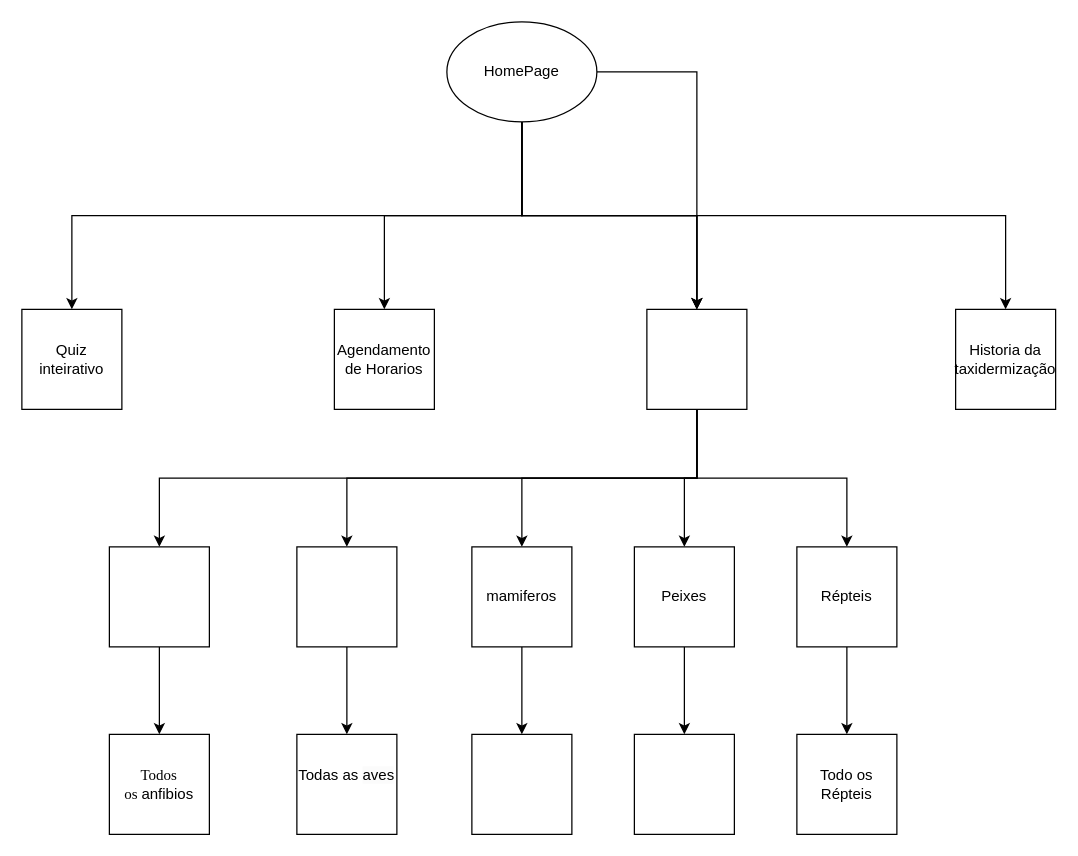
This 1078x856 diagram has some shape labels left out. Here are the shapes that lost their labels. From the top down, the box of each, then its label:
(646, 308, 747, 409): Animais taxidermizados
(108, 546, 209, 647): anfibios
(296, 546, 397, 647): aves
(471, 733, 572, 834): Todos os mamiferos
(633, 733, 734, 834): Todo os Peixes
